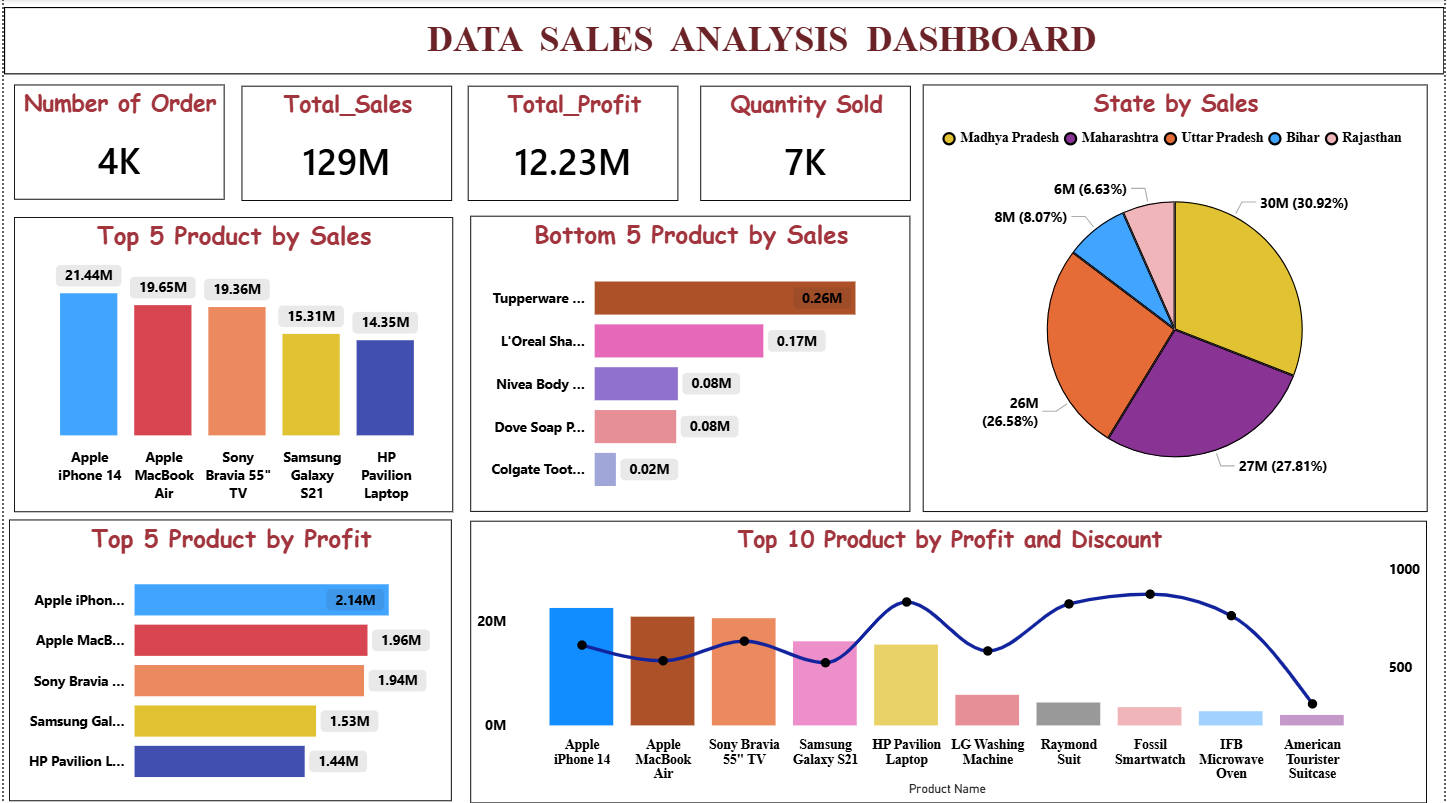

Layout of this report page (visuals, bound fields, positions):
{"tool":"powerbi","page":{"name":"Dashboard","canvas":[1280,720],"ordinal":0},"visuals":[{"type":"clusteredColumnChart","title":"Top 5   Product by Sales ","fields":{"Category":["Dim Product.Product Name"],"Y":["Sum(Fact table.Net Sales)"]},"box":[8.8,195,390,262.5],"z":0},{"type":"clusteredBarChart","title":"Bottom 5   Product by Sales ","fields":{"Category":["Dim Product.Product Name"],"Y":["Sum(Fact table.Net Sales)"]},"box":[414.5,194.4,391.3,262.9],"z":1000},{"type":"barChart","title":"Top 5   Product by Profit","fields":{"Category":["Dim Product.Product Name"],"Y":["Sum(Fact table.Profit)"]},"box":[4.9,464.7,393.8,250.7],"z":2000},{"type":"cardVisual","title":"Number of Order","fields":{"Data":["Fact table.Number of Order"]},"box":[8.6,78.3,187.1,102.7],"z":3000},{"type":"shape","box":[0,8.6,1280.3,59.9],"z":4000},{"type":"textbox","box":[82.5,13.8,1182.5,51.2],"z":5000},{"type":"cardVisual","title":"Total_Profit","fields":{"Data":["Fact table.Total_Profit"]},"box":[412.5,78.8,187.5,102.5],"z":6000},{"type":"cardVisual","title":"Total_Sales","fields":{"Data":["Sum(Fact table.Total Sales)"]},"box":[211.2,78.8,187.5,102.5],"z":7000},{"type":"cardVisual","title":"Quantity Sold","fields":{"Data":["Sum(Fact table.Units Sold)"]},"box":[618.8,78.8,187.5,102.5],"z":8000},{"type":"pieChart","title":"State by Sales","fields":{"Category":["Dim Customers.State"],"Y":["Sum(Fact table.Total Sales)"]},"box":[816.5,78.2,448.7,380.1],"z":9000},{"type":"lineStackedColumnComboChart","title":"Top 10 Product by Profit and Discount ","fields":{"Category":["Dim Product.Product Name"],"Y2":["Sum(Fact table.Discount Percentage)"],"Y":["Sum(Fact table.Total Sales)"]},"box":[414.4,465.2,850.8,251.1],"z":10000}]}

Visuals, with their boxes in screenshot pixels (x1, y1, x2, y2), scaled from the page's 1280x720 canvas onto the 1447x803 screenshot:
"Top 5   Product by Sales " clusteredColumnChart: (10, 217, 451, 510)
"Bottom 5   Product by Sales " clusteredBarChart: (469, 217, 911, 510)
"Top 5   Product by Profit" barChart: (6, 518, 451, 798)
"Number of Order" cardVisual: (10, 87, 221, 202)
shape: (0, 10, 1446, 76)
textbox: (93, 15, 1430, 72)
"Total_Profit" cardVisual: (466, 88, 678, 202)
"Total_Sales" cardVisual: (239, 88, 451, 202)
"Quantity Sold" cardVisual: (700, 88, 911, 202)
"State by Sales" pieChart: (923, 87, 1430, 511)
"Top 10 Product by Profit and Discount " lineStackedColumnComboChart: (468, 519, 1430, 799)
